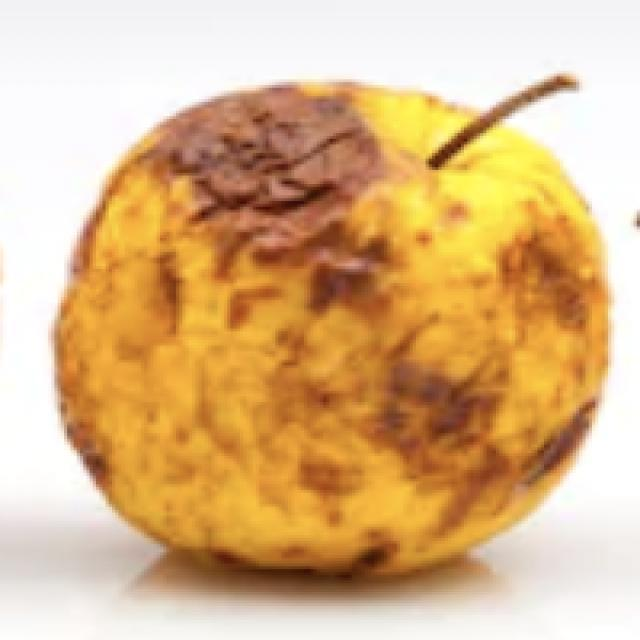Rotten: (53, 77, 611, 575)
